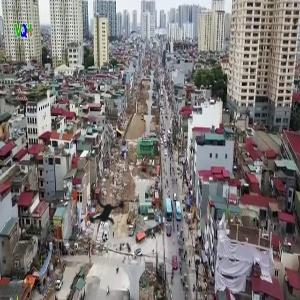drone: (69, 173, 145, 249)
